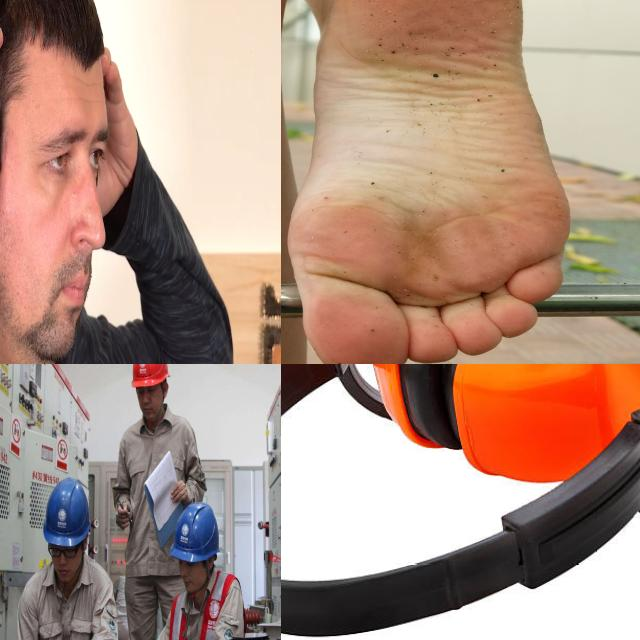Barefoots: (287, 0, 571, 364)
Ear-protection: (281, 364, 640, 640), (0, 0, 123, 364)
No_Glasses: (13, 98, 116, 197)
face_nomask: (49, 536, 80, 582), (177, 554, 209, 591), (136, 383, 164, 422)
glasses: (46, 544, 80, 562)
hand_noglove: (114, 500, 135, 534), (169, 476, 188, 511)
head_helmet: (43, 477, 89, 546), (177, 500, 218, 562), (128, 364, 171, 386)
person: (12, 483, 116, 640), (115, 364, 176, 616), (151, 501, 225, 640)
vest: (171, 573, 238, 640)
